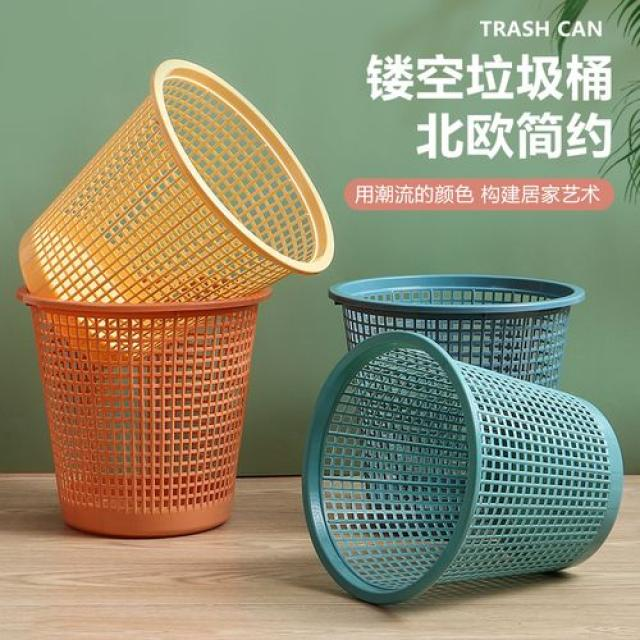dustbin: (297, 328, 629, 614), (15, 54, 338, 306), (12, 285, 278, 541), (326, 272, 588, 404)
